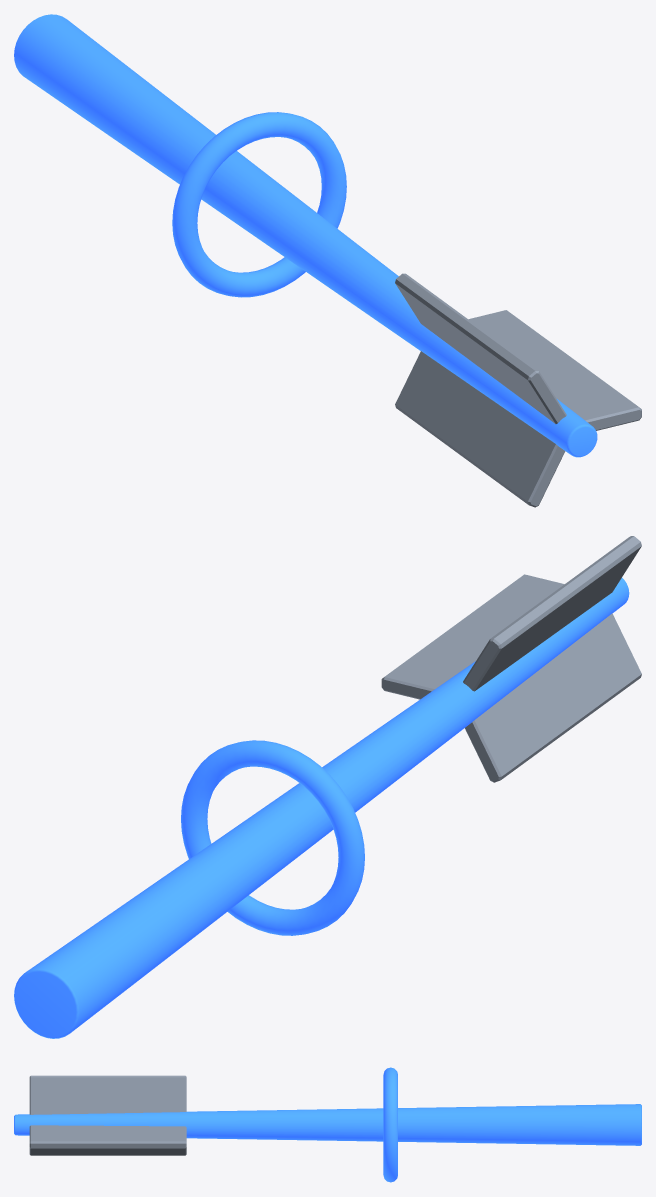
File: proj_lance_bolt_t3.glb
3 views of the same model, one above another, from view 1: azimuth 30°, elevation 25°; view 2: azimuth 150°, elevation 25°; view 3: azimuth 270°, elevation 25° (orthographic). The views are drawn at different scales.
Parts seen in each view (by area): view 1: proj_lance_bolt_t3_core, proj_lance_bolt_t3_fin2, proj_lance_bolt_t3_ring, proj_lance_bolt_t3_fin0, proj_lance_bolt_t3_fin1; view 2: proj_lance_bolt_t3_core, proj_lance_bolt_t3_fin2, proj_lance_bolt_t3_ring, proj_lance_bolt_t3_fin0, proj_lance_bolt_t3_fin1; view 3: proj_lance_bolt_t3_core, proj_lance_bolt_t3_fin1, proj_lance_bolt_t3_fin0, proj_lance_bolt_t3_ring, proj_lance_bolt_t3_fin2.
Part boxes in pixels (<box>): proj_lance_bolt_t3_core: <box>14,14,597,457</box>; proj_lance_bolt_t3_fin2: <box>395,351,565,507</box>; proj_lance_bolt_t3_ring: <box>172,112,346,297</box>; proj_lance_bolt_t3_fin0: <box>468,310,641,430</box>; proj_lance_bolt_t3_fin1: <box>395,273,566,423</box>; proj_lance_bolt_t3_core: <box>14,577,629,1038</box>; proj_lance_bolt_t3_fin2: <box>465,613,641,782</box>; proj_lance_bolt_t3_ring: <box>181,740,364,935</box>; proj_lance_bolt_t3_fin0: <box>381,574,564,699</box>; proj_lance_bolt_t3_fin1: <box>463,536,641,691</box>; proj_lance_bolt_t3_core: <box>14,1104,641,1145</box>; proj_lance_bolt_t3_fin1: <box>29,1075,186,1114</box>; proj_lance_bolt_t3_fin0: <box>29,1125,186,1148</box>; proj_lance_bolt_t3_ring: <box>383,1067,397,1182</box>; proj_lance_bolt_t3_fin2: <box>29,1148,186,1155</box>.
Size of what is drawn, in the model's own units: 0.1925 by 0.1925 by 1.05.
